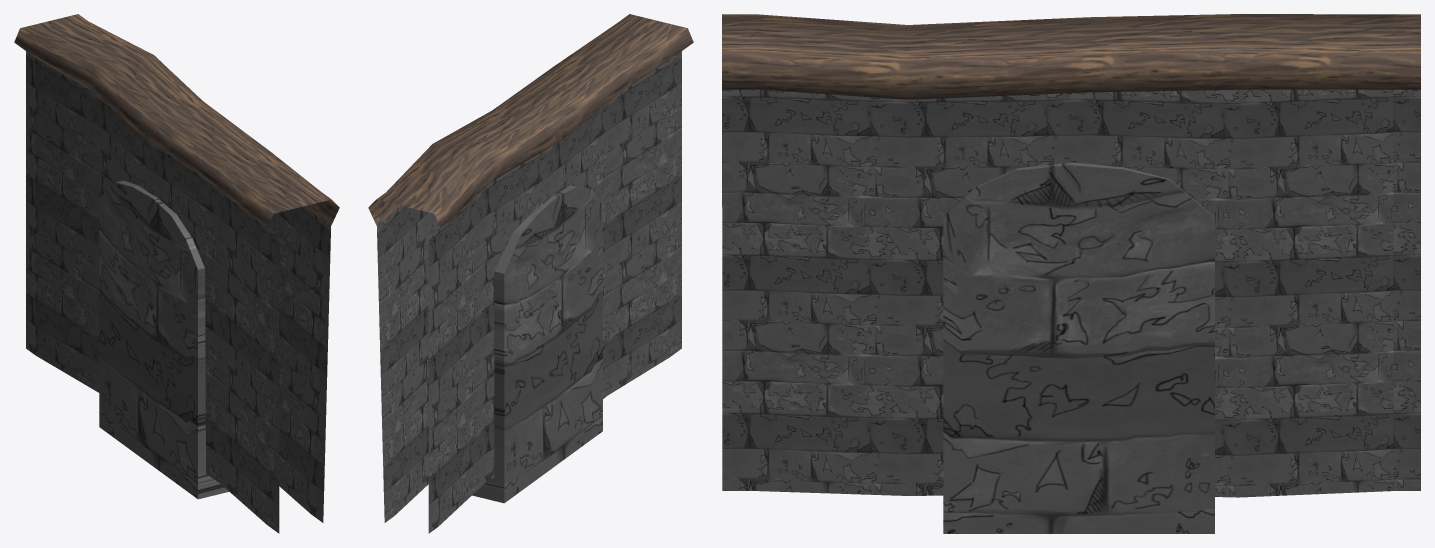
Rendered from Door.fbx.
3 renders of one model, left to right at view 1: azimuth 30°, elevation 25°; view 2: azimuth 150°, elevation 25°; view 3: azimuth 270°, elevation 25°, orthographic. The views are drawn at different scales.
Parts seen in each view (by area): view 1: Cube, Cube.002, Cube.001; view 2: Cube, Cube.002, Cube.001; view 3: Cube, Cube.002, Cube.001.
Part boxes in pixels (x1,y1,x2,y2): Cube: (26, 51, 330, 533); Cube.002: (99, 180, 229, 499); Cube.001: (14, 14, 339, 232); Cube: (377, 51, 681, 533); Cube.002: (472, 185, 602, 503); Cube.001: (368, 14, 693, 232); Cube: (722, 89, 1420, 497); Cube.002: (943, 162, 1214, 533); Cube.001: (722, 14, 1420, 99).
Size of the model in its own units: 186 by 763 by 1000.
